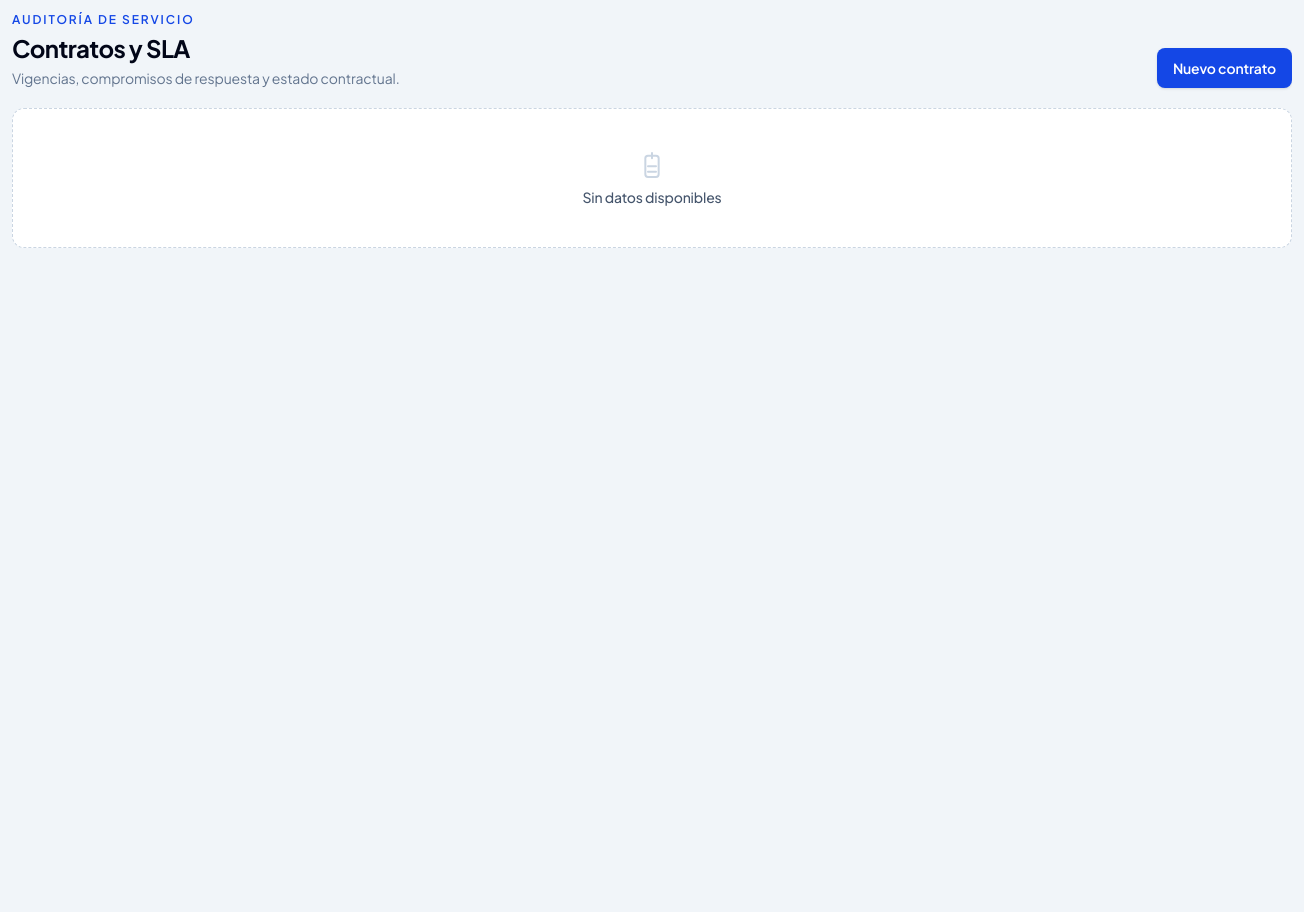
ContratosPage › monto «0» se rechaza
Click the button "Nuevo contrato". click: (1224, 68)
box: [1157, 48, 1292, 88]
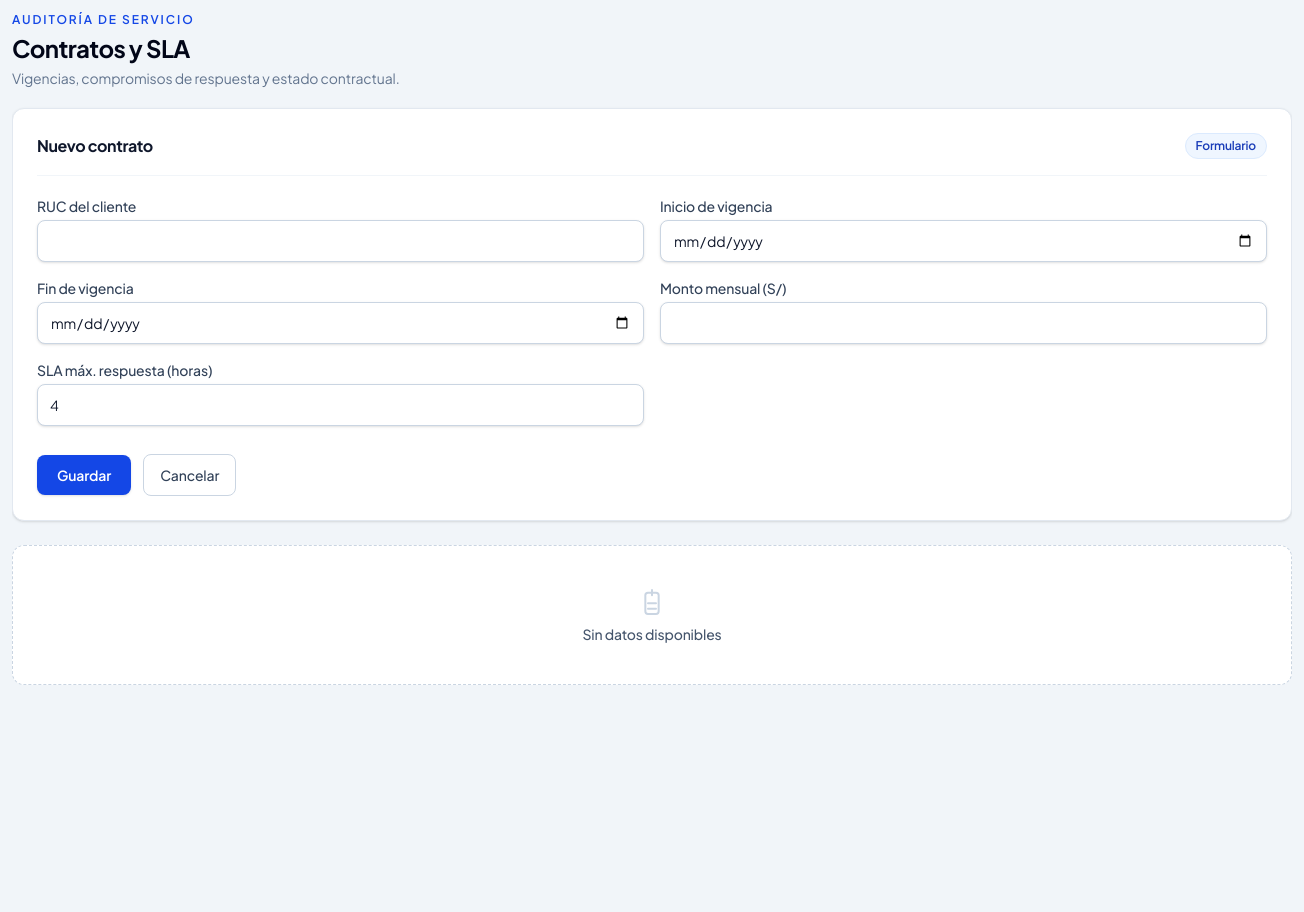
Type "20612493821" into the field labelled "RUC del cliente". click: (340, 241)
box: [37, 220, 644, 262]
Type "2026-01-01" into the date field labelled "Inicio de vigencia". click: (964, 241)
box: [660, 220, 1267, 262]
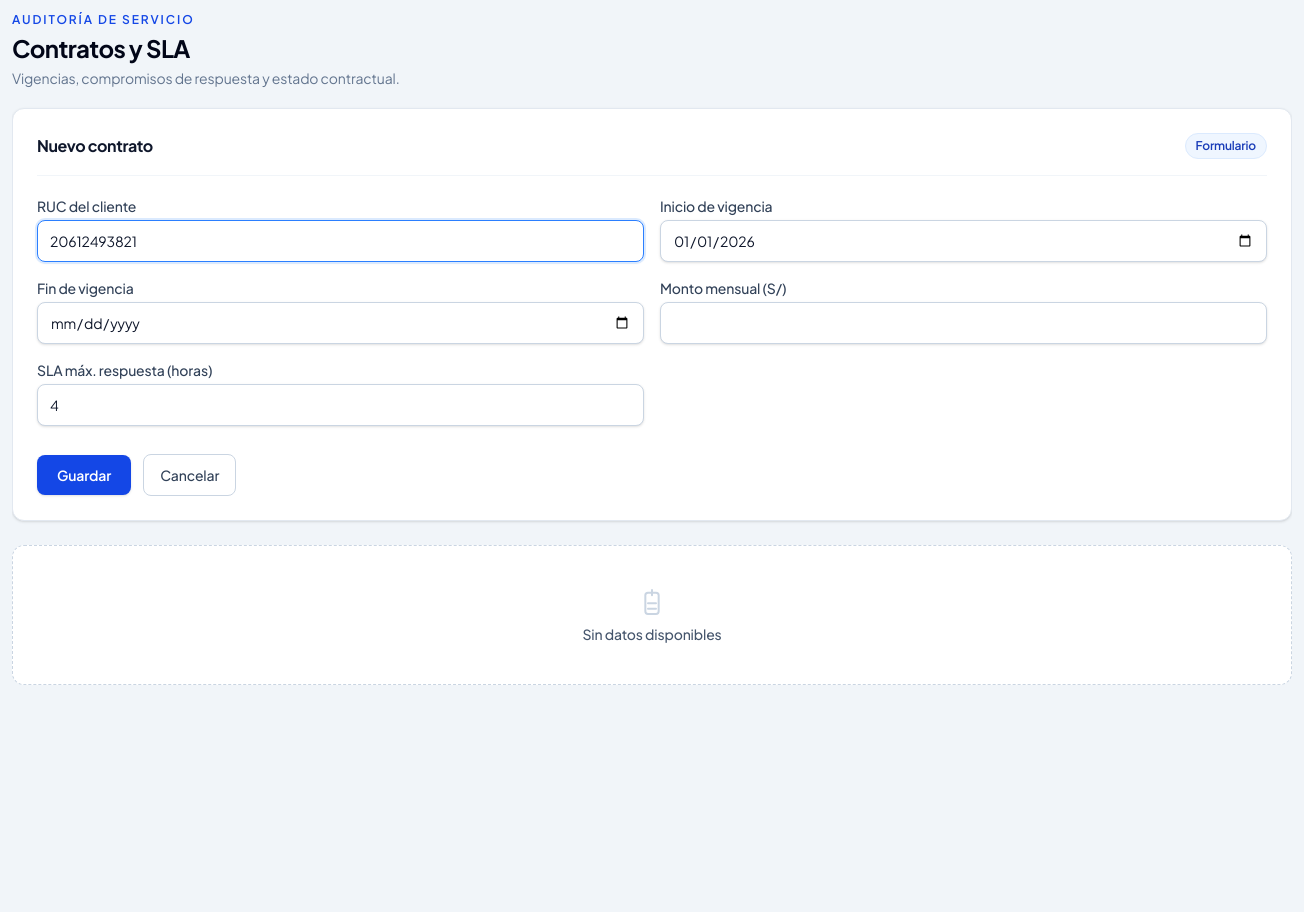
Type "2026-12-31" into the date field labelled "Fin de vigencia". click: (340, 323)
box: [37, 302, 644, 344]
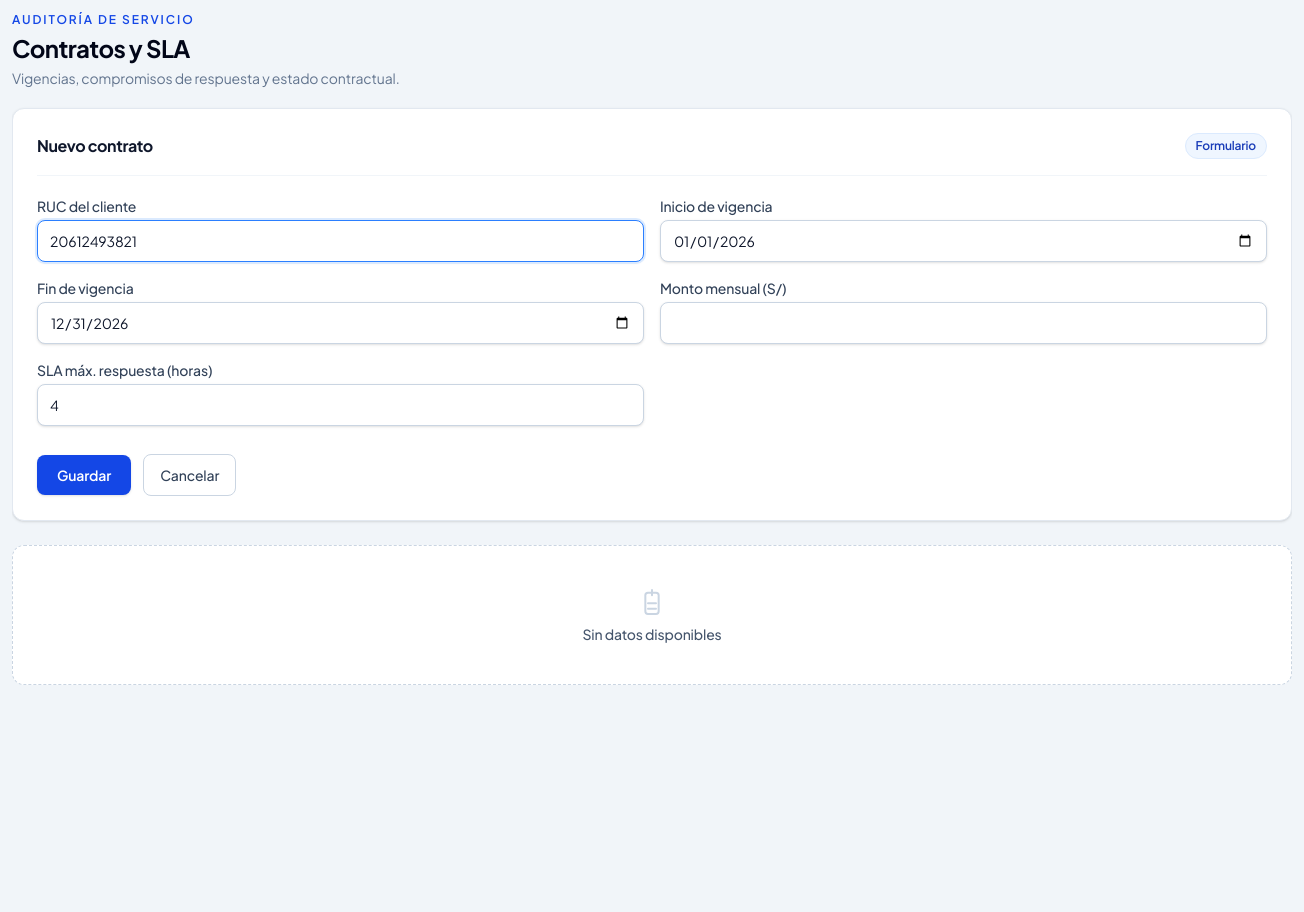
Type "0" into the field labelled "Monto mensual (S/)". click: (964, 323)
box: [660, 302, 1267, 344]
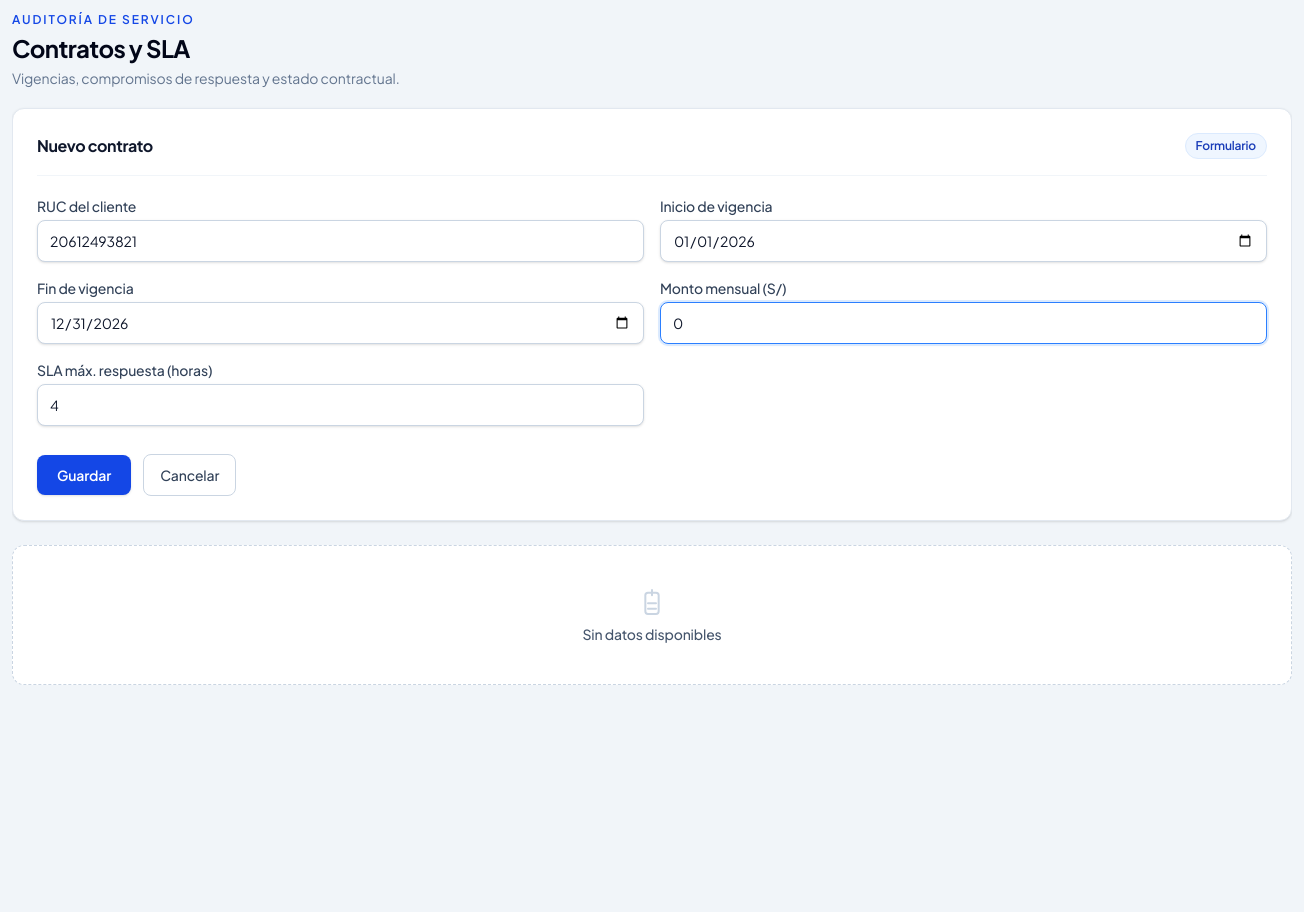
Replace the text in the field labelled "SLA máx. respuesta (horas)" with "6". click: (340, 405)
box: [37, 384, 644, 426]
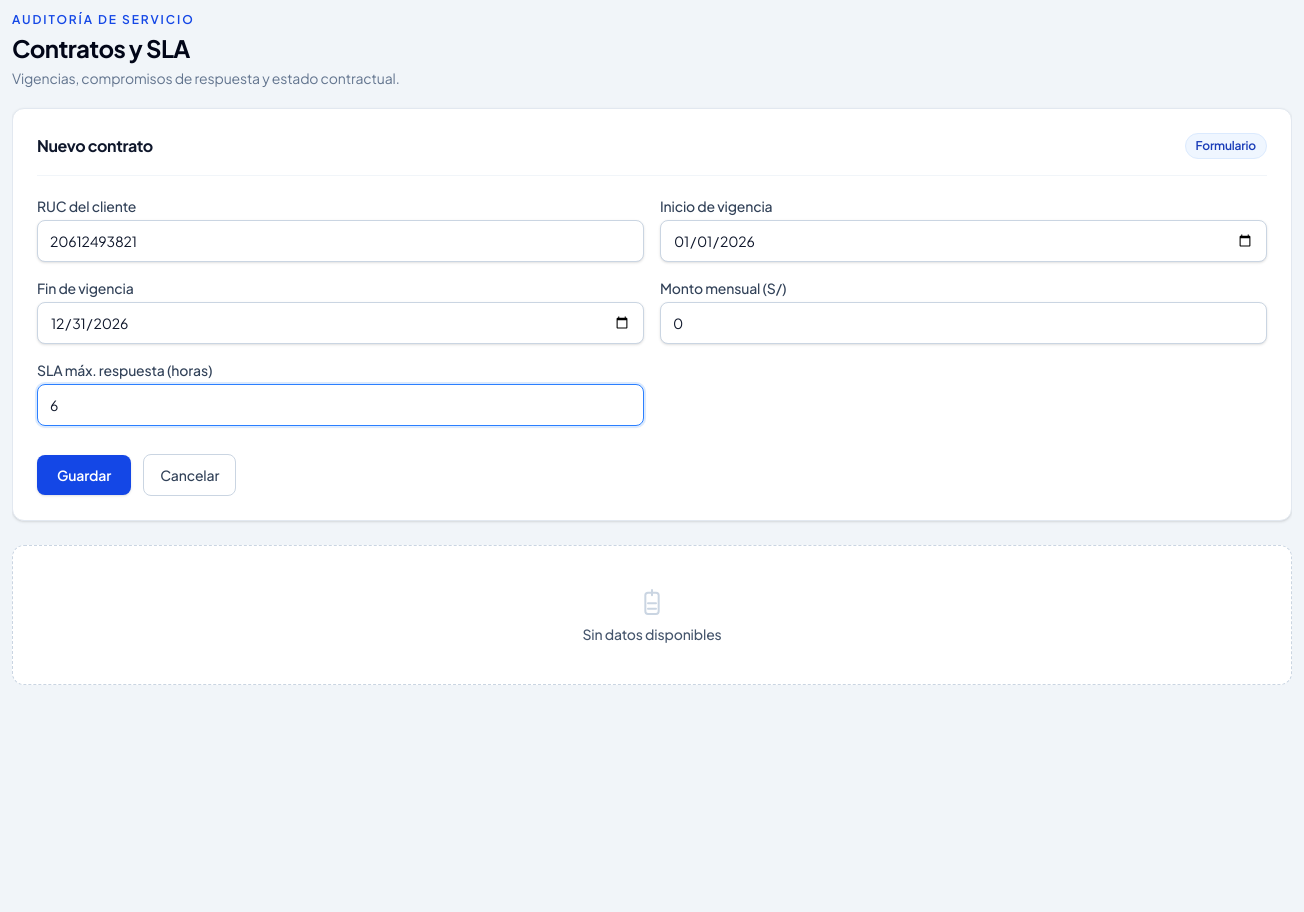
Click the button "Guardar". click: (84, 475)
box: [37, 455, 131, 495]
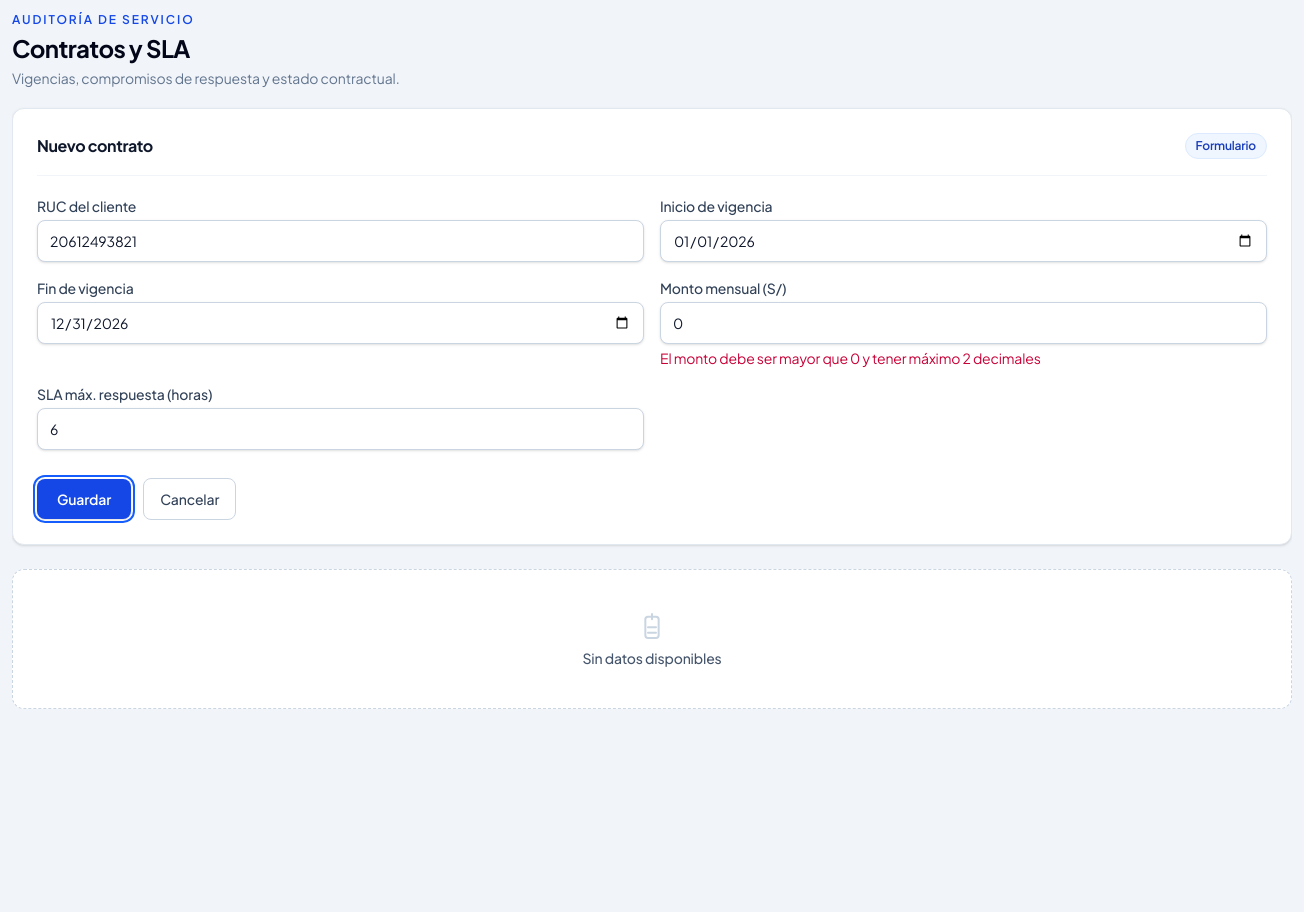
Now the text "El monto debe ser mayor que 0 y tener máximo 2 decimales" is shown, box [660, 349, 1041, 367]
